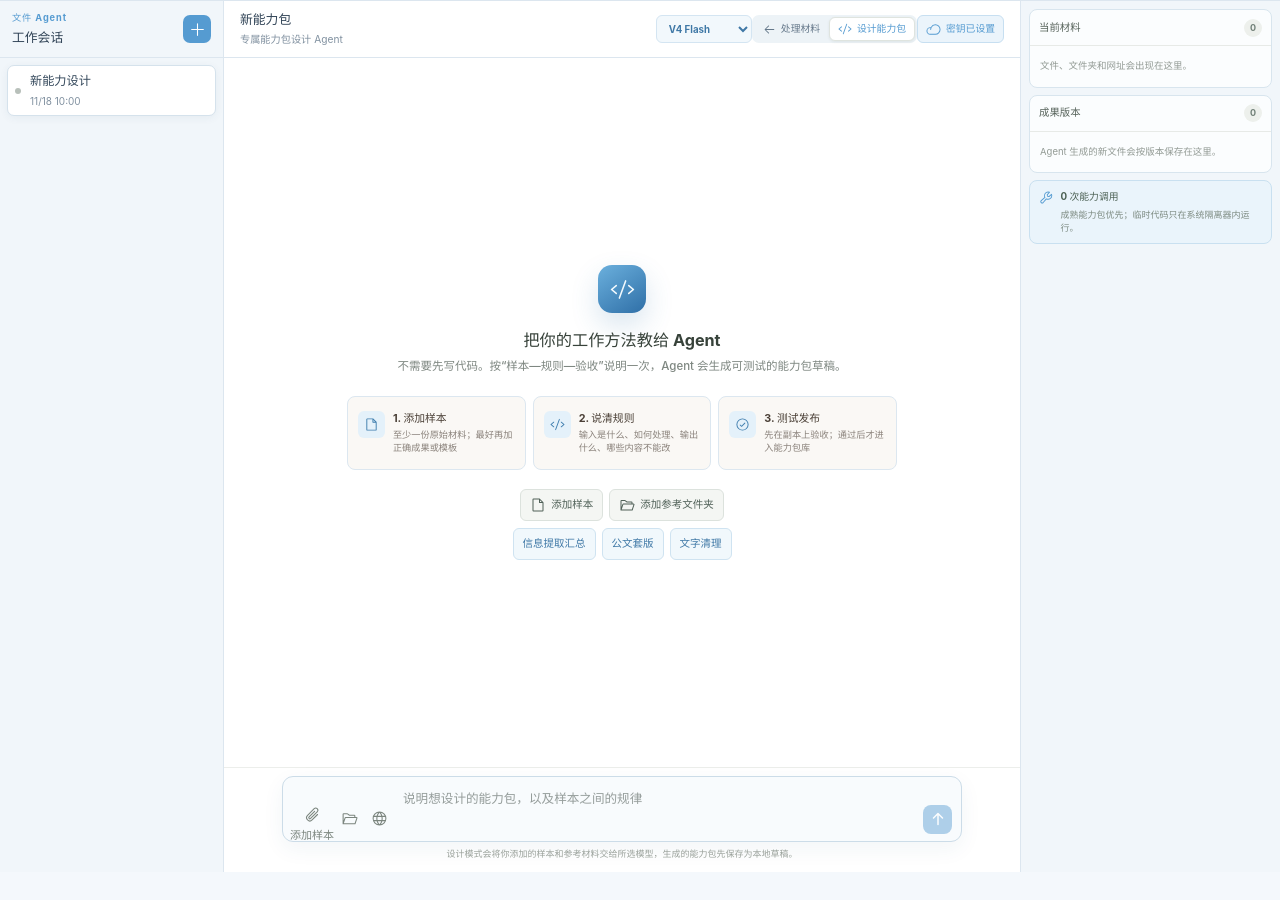
design session lifecycle › shows file picker failures and allows another upload in the same design
Click the 2nd button titled "添加文件" at x=312, y=818, box [290,806,334,832]
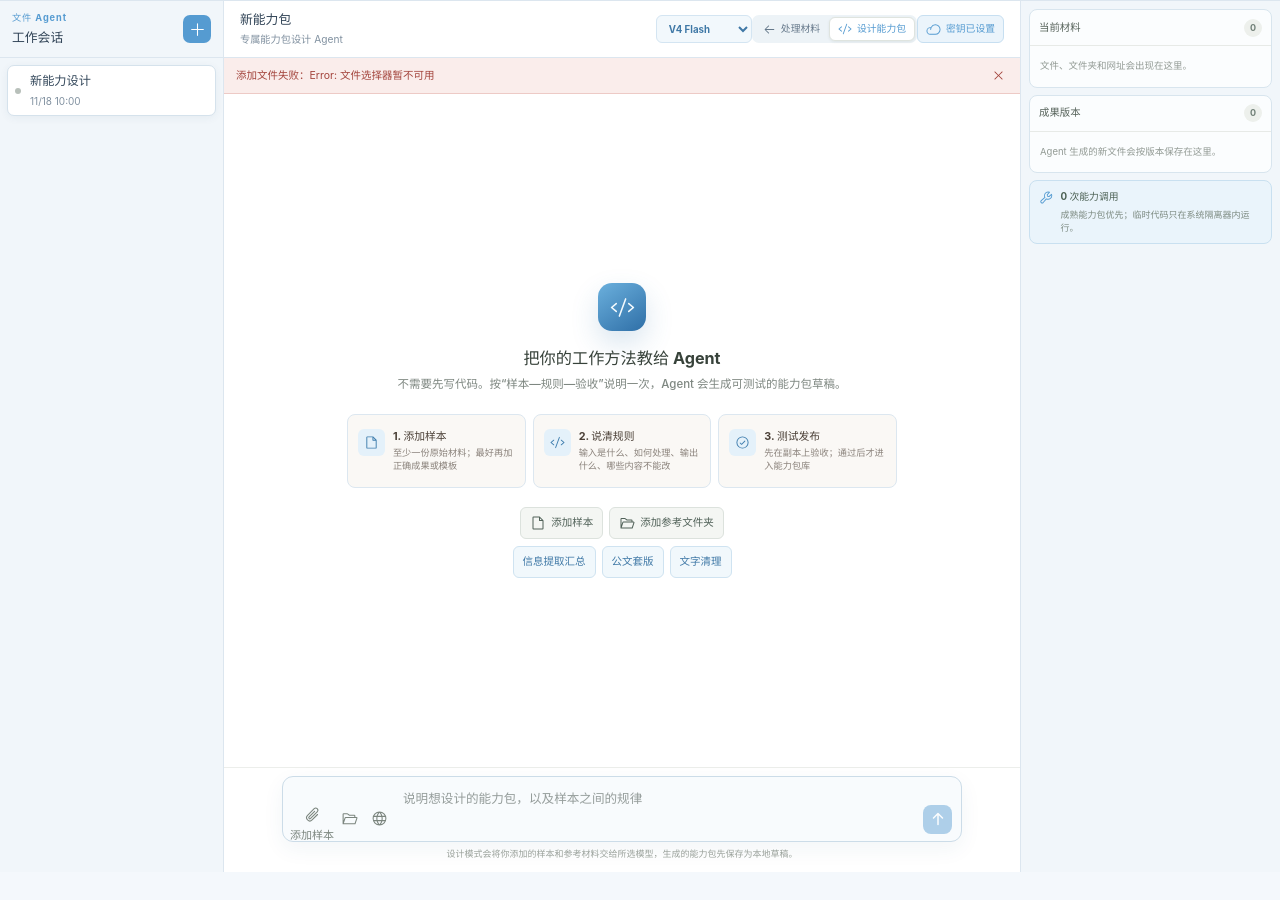
Expected: the button named "新建设计会话" is enabled, [183,15,211,43]
Result: the text "添加文件失败：Error: 文件选择器暂不可用" is shown at [236,69,434,82]
Click the 2nd button titled "添加文件" at x=312, y=818, box [290,806,334,832]
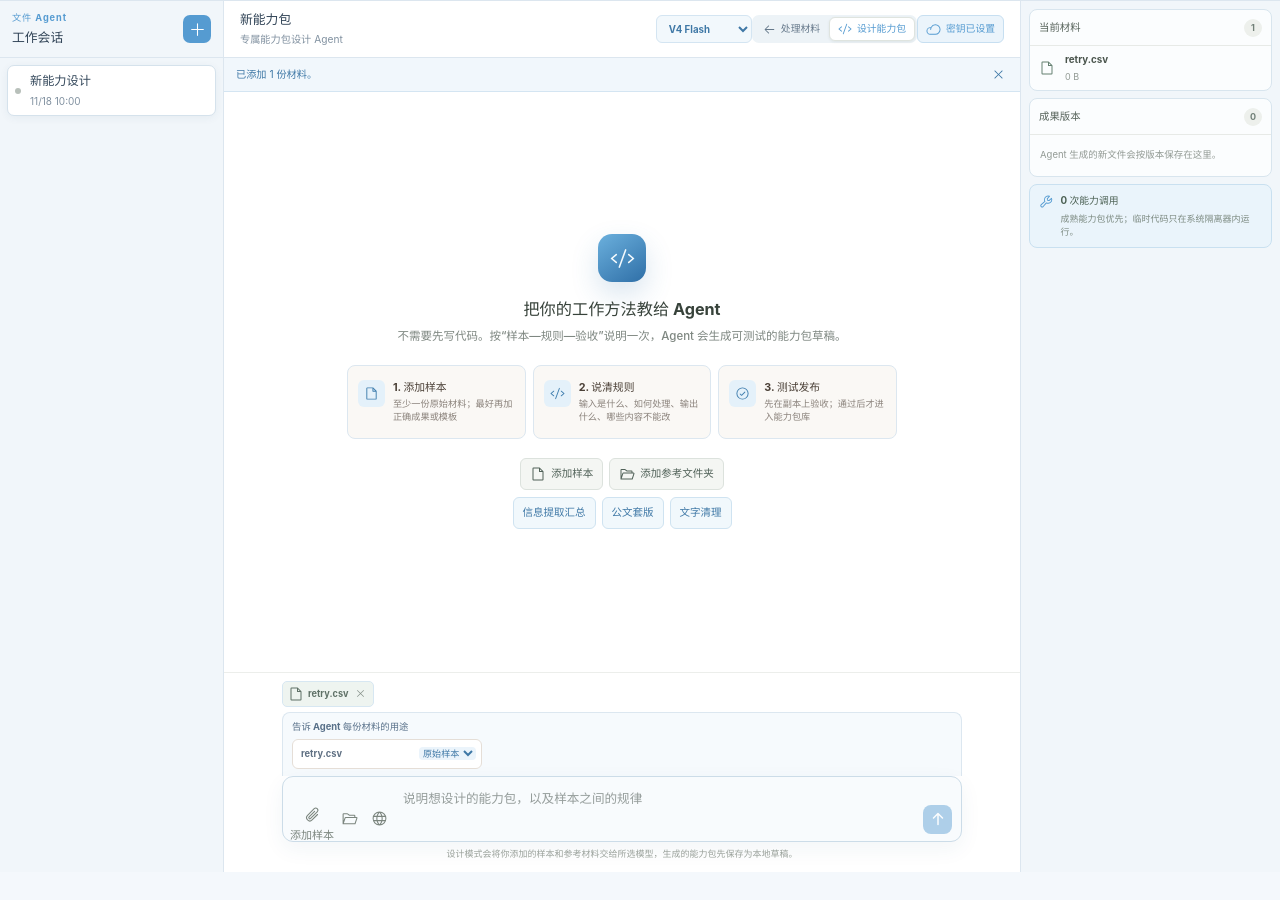
Result: the text "添加文件失败" is gone
Result: the dropdown labelled "retry.csv" shows "原始样本" at [419,747,476,760]
